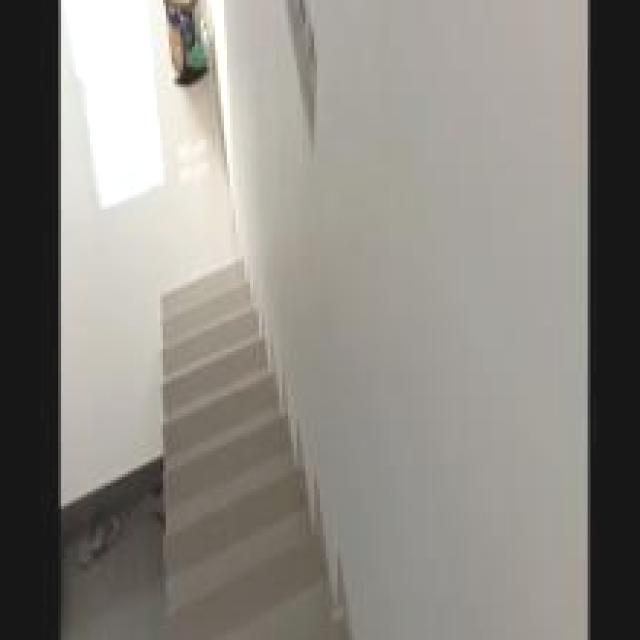downstair: (146, 327, 327, 626)
